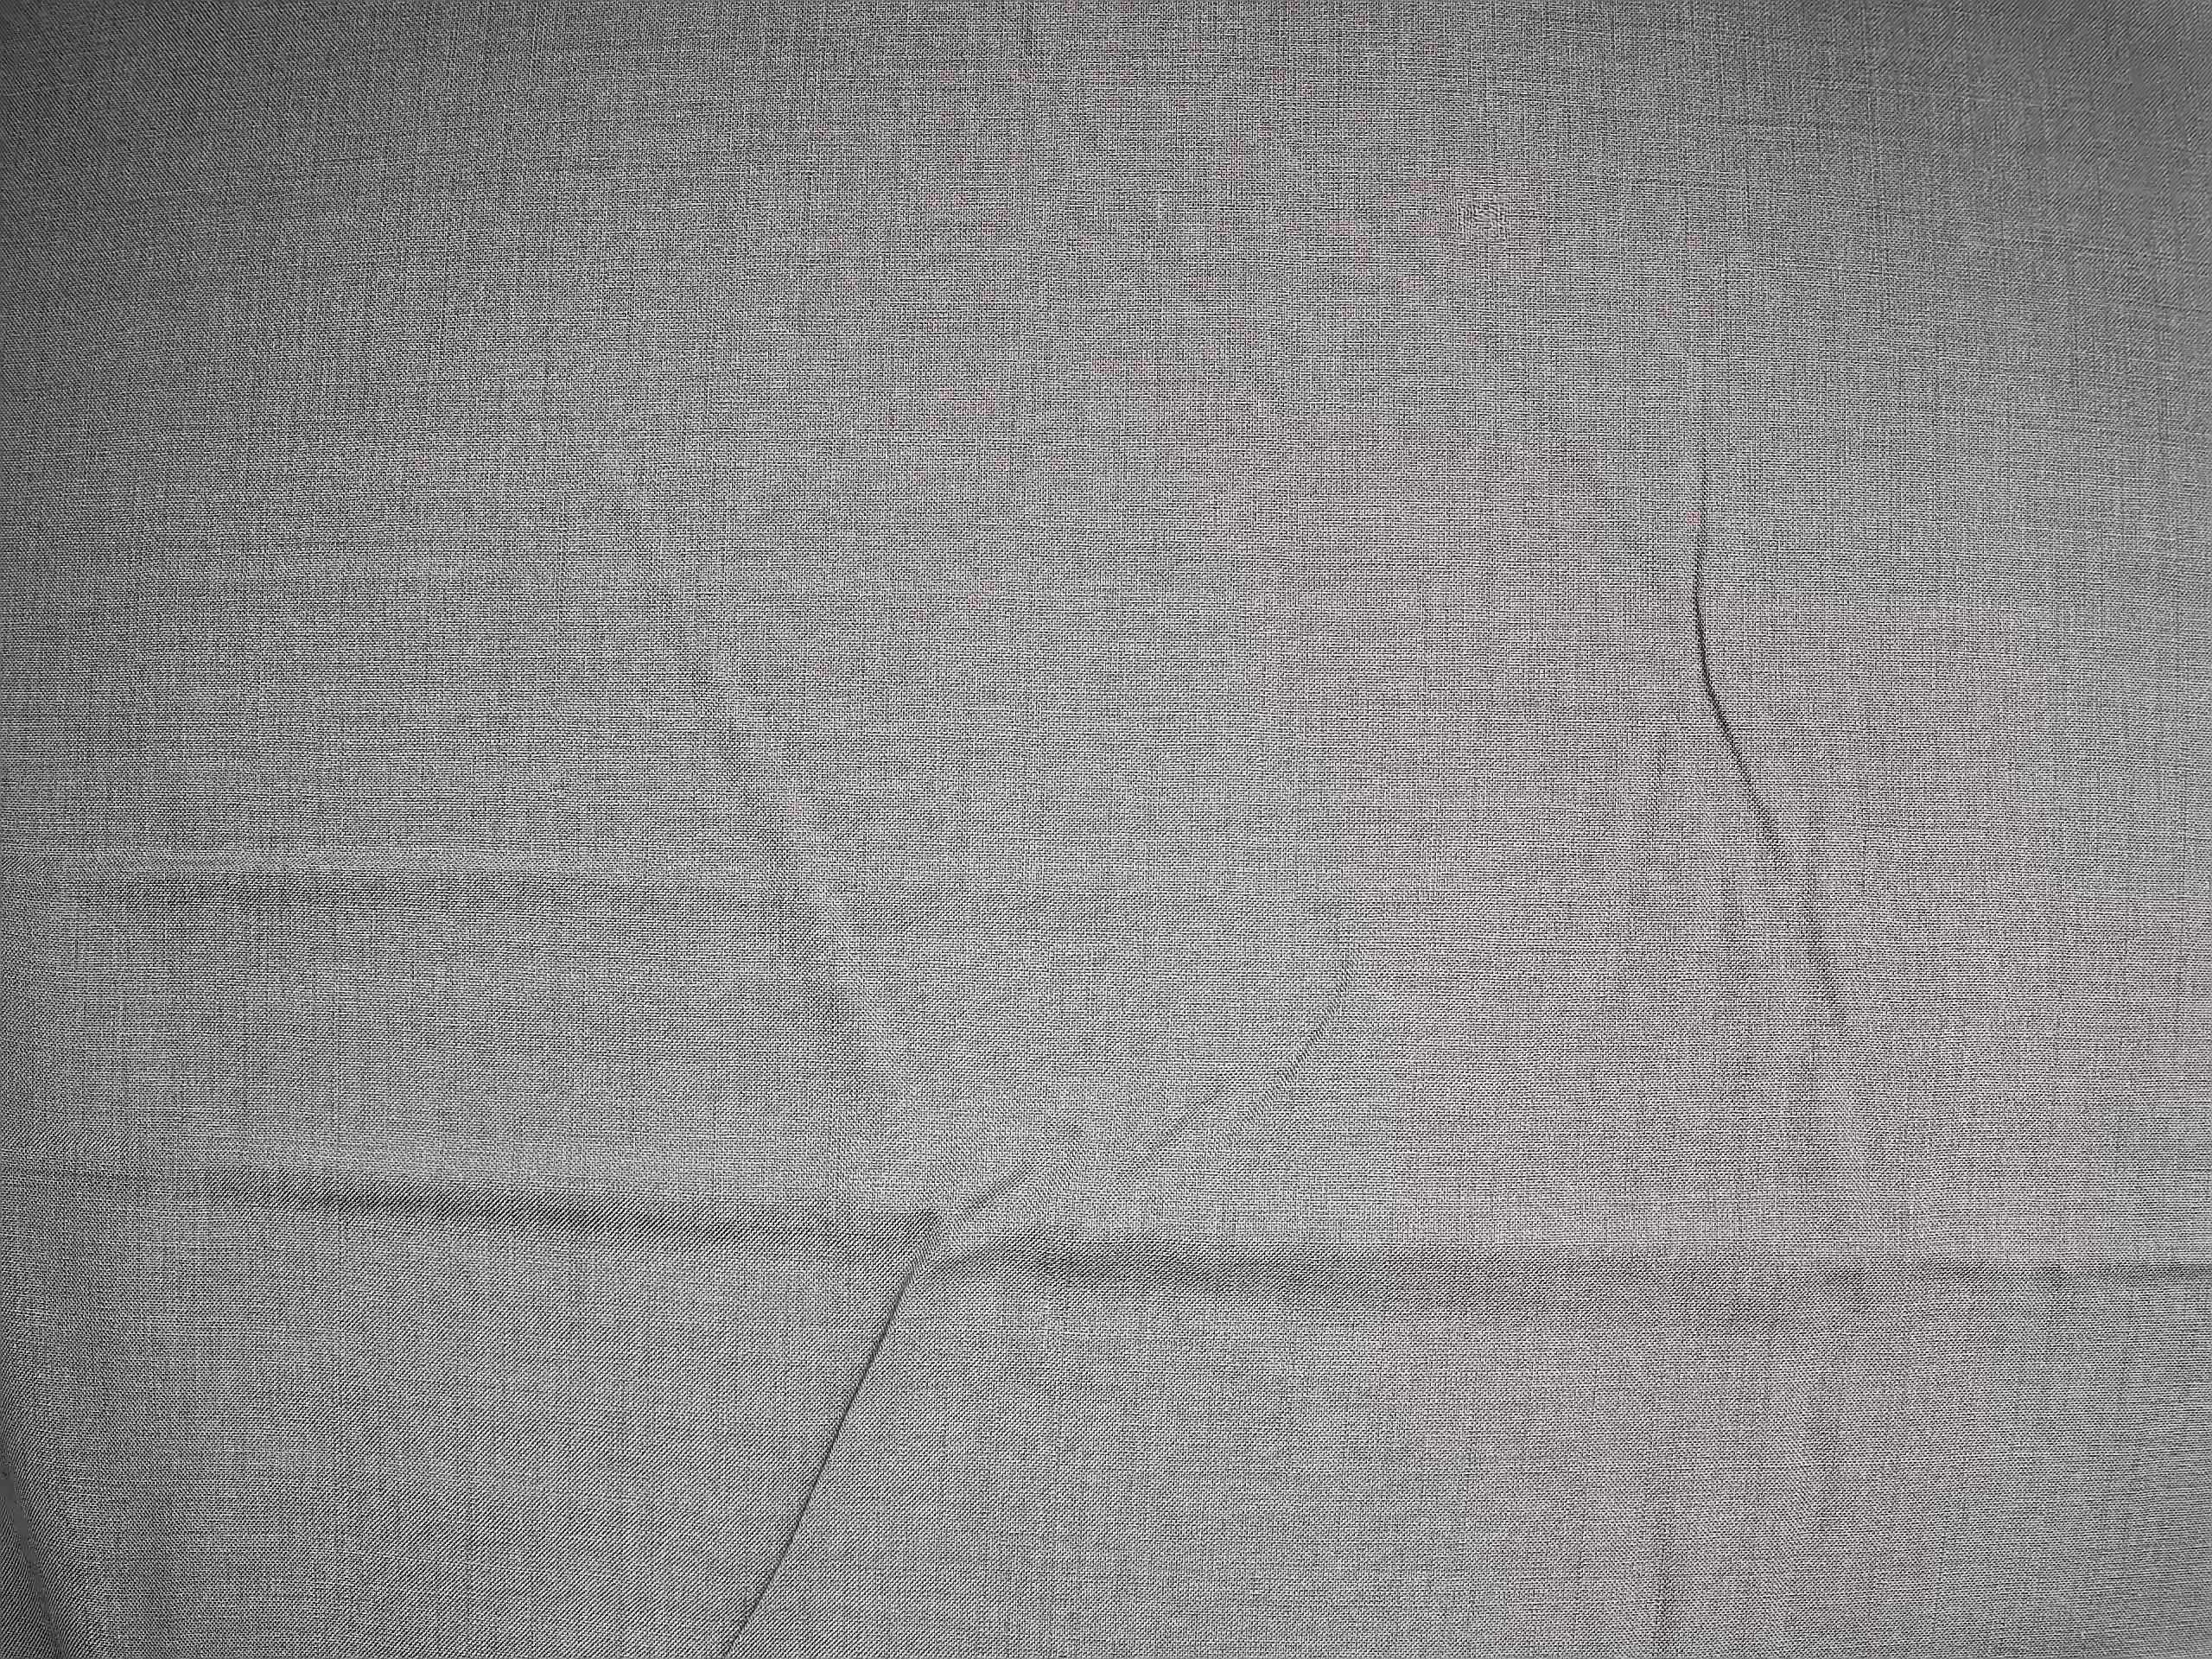knots: (1439, 173, 1543, 268)
